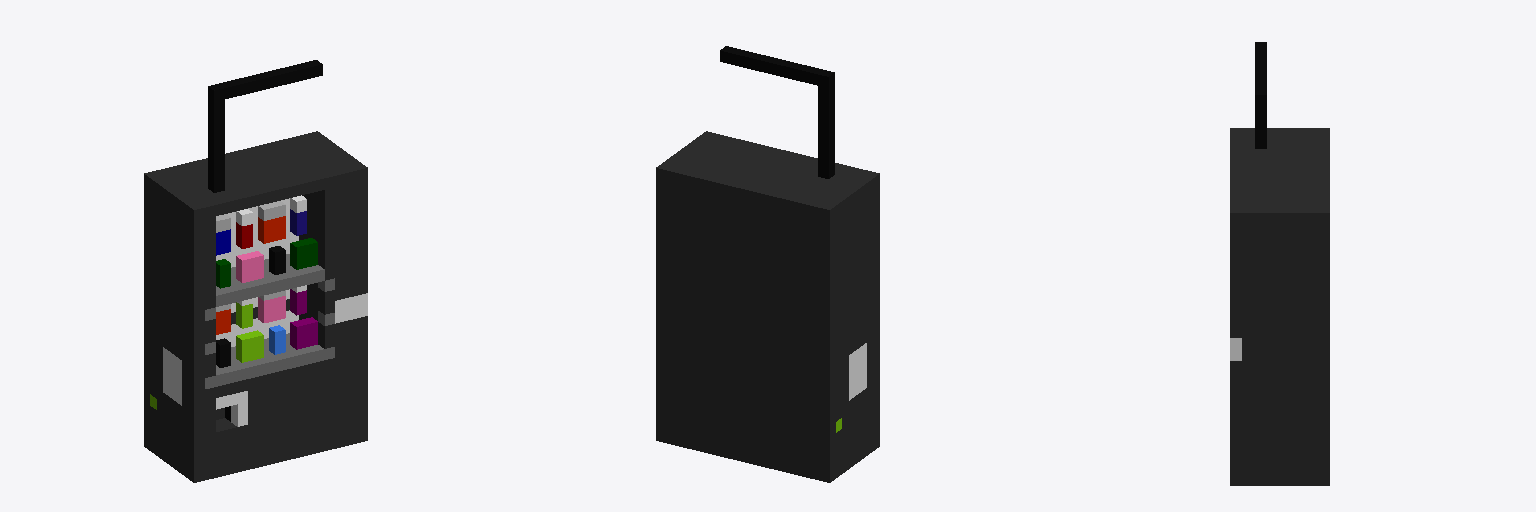
The picture shows the model from 3 angles: view 1: azimuth 30°, elevation 25°; view 2: azimuth 150°, elevation 25°; view 3: azimuth 270°, elevation 25°; orthographic projection.
Parts seen in each view (by area): view 1: SodaMachine2; view 2: SodaMachine2; view 3: SodaMachine2.
Boxes of the visible parts, x1=… form: SodaMachine2: x1=144, y1=60, x2=367, y2=482; SodaMachine2: x1=656, y1=46, x2=879, y2=482; SodaMachine2: x1=1230, y1=42, x2=1329, y2=485.
Bounding box in the file's own units: 1.01 × 2.08 × 0.504.
1 materials, 1 textured.